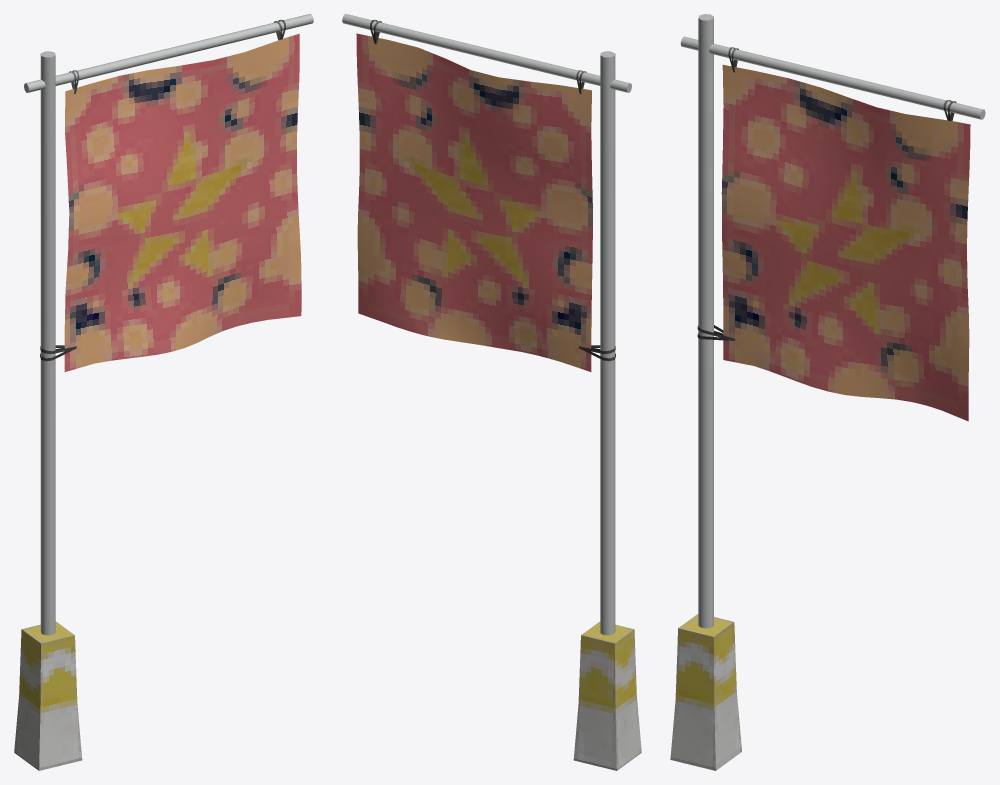
The model's file is objects_un_base_flag02_fairy.gltf.
3 renders of one model, left to right at view 1: azimuth 30°, elevation 25°; view 2: azimuth 150°, elevation 25°; view 3: azimuth 330°, elevation 25°, orthographic. The views are drawn at different scales.
Visible parts, largest first — view 1: nomerge_objects_un_base_flag02_fairy_mesh2_shape:objects_un_, objects_un_base_flag02_fairy_mesh1_shape:objects_un_base_fla; view 2: nomerge_objects_un_base_flag02_fairy_mesh2_shape:objects_un_, objects_un_base_flag02_fairy_mesh1_shape:objects_un_base_fla; view 3: nomerge_objects_un_base_flag02_fairy_mesh2_shape:objects_un_, objects_un_base_flag02_fairy_mesh1_shape:objects_un_base_fla.
Boxes of the visible parts, x1,y1,x2,y2 form: nomerge_objects_un_base_flag02_fairy_mesh2_shape:objects_un_: (40,19,301,371); objects_un_base_flag02_fairy_mesh1_shape:objects_un_base_fla: (14,14,313,770); nomerge_objects_un_base_flag02_fairy_mesh2_shape:objects_un_: (356,19,615,371); objects_un_base_flag02_fairy_mesh1_shape:objects_un_base_fla: (342,14,641,770); nomerge_objects_un_base_flag02_fairy_mesh2_shape:objects_un_: (697,47,970,421); objects_un_base_flag02_fairy_mesh1_shape:objects_un_base_fla: (670,14,985,770).
Size of what is drawn, in the model's own units: 2.12 by 5 by 0.3223.
2 materials, 2 textured.
